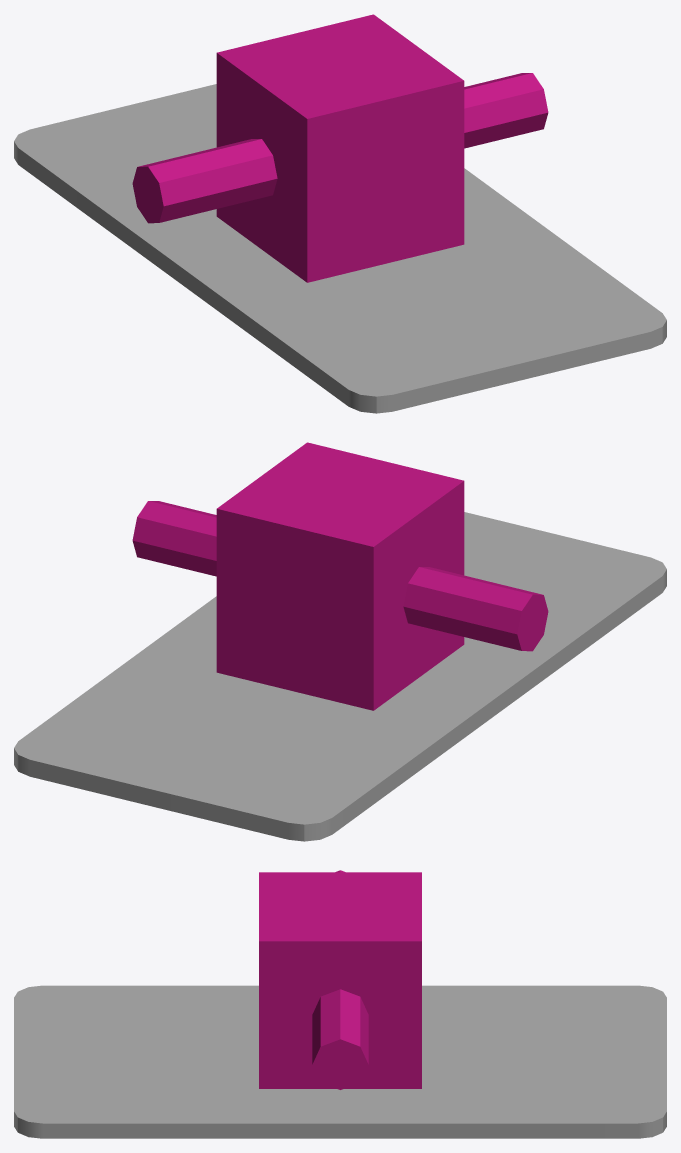
Rendered from test_obj_cannon-X_v01.fbx.
3 views of the same model, one above another, from view 1: azimuth 30°, elevation 25°; view 2: azimuth 150°, elevation 25°; view 3: azimuth 270°, elevation 25° (orthographic). The views are drawn at different scales.
Parts seen in each view (by area): view 1: obj_cannon_X; view 2: obj_cannon_X; view 3: obj_cannon_X.
Boxes of the visible parts, left/top/right/bottom form: obj_cannon_X: left=14, top=14, right=666, bottom=413; obj_cannon_X: left=14, top=442, right=666, bottom=841; obj_cannon_X: left=14, top=870, right=666, bottom=1138.
Size of the model in its own units: 1.23 by 0.5505 by 2.
